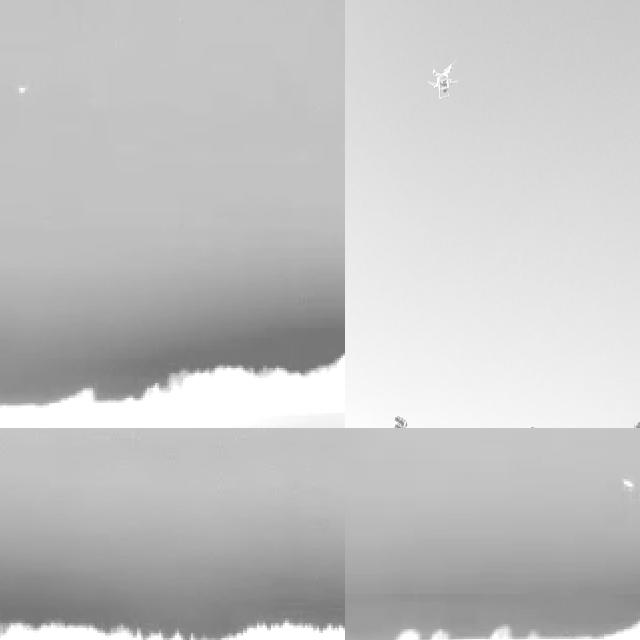0: (8, 80, 30, 106)
1: (609, 466, 640, 511)
drone: (428, 59, 458, 109)
